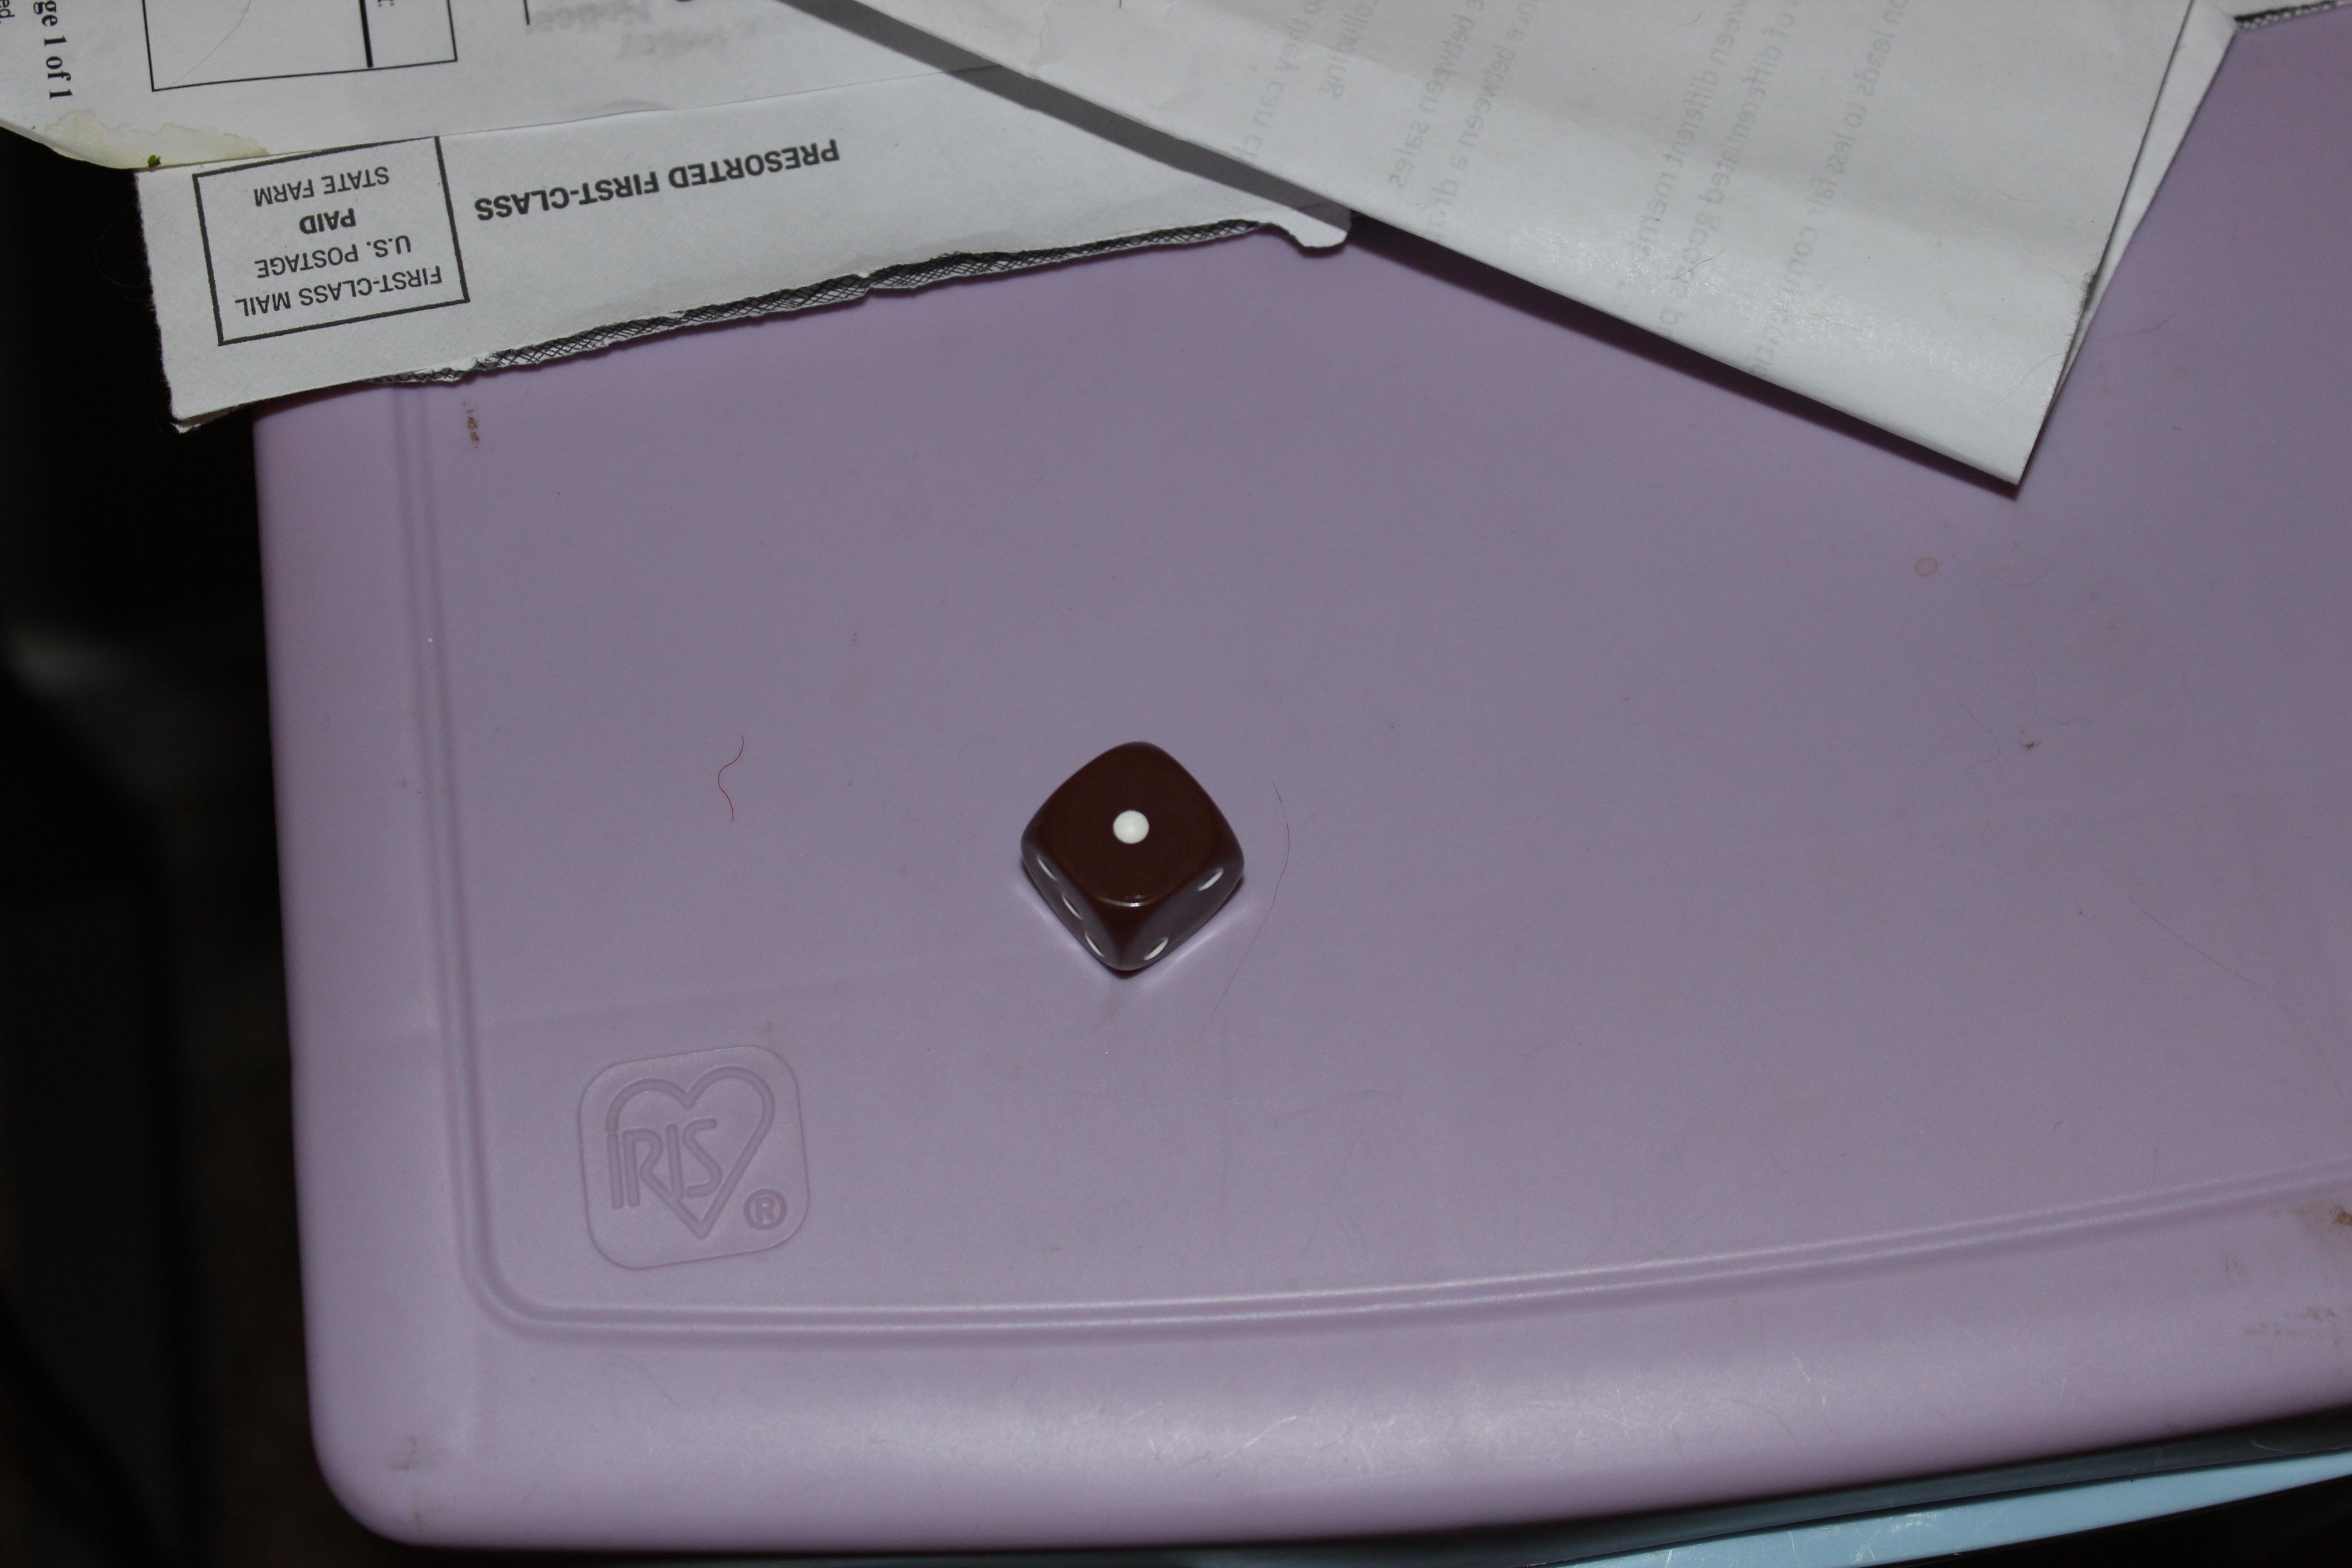brownDie: (984, 726, 1285, 1010)
